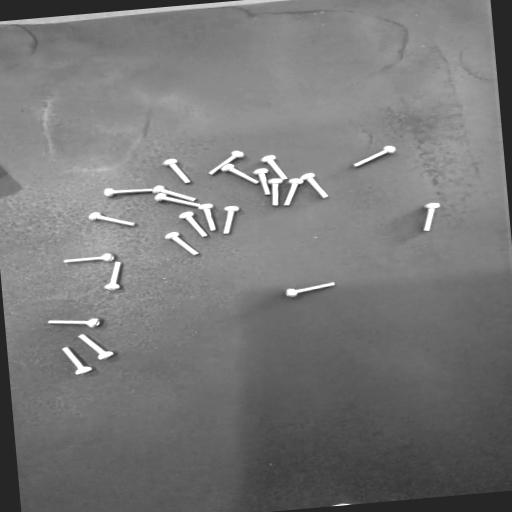Bolt: (78, 334, 114, 359), (354, 146, 395, 167), (209, 151, 244, 175), (165, 232, 199, 255), (62, 348, 92, 374), (221, 164, 259, 184), (286, 282, 335, 297), (89, 212, 136, 227), (179, 212, 207, 237), (152, 186, 196, 201), (155, 193, 200, 207), (302, 174, 328, 198), (164, 159, 190, 183), (261, 155, 287, 179), (284, 179, 303, 205), (48, 318, 102, 327), (423, 203, 440, 231), (104, 262, 121, 290), (64, 254, 115, 263), (199, 204, 216, 231), (254, 168, 270, 195), (105, 188, 152, 197), (224, 206, 239, 234), (268, 179, 282, 205)
